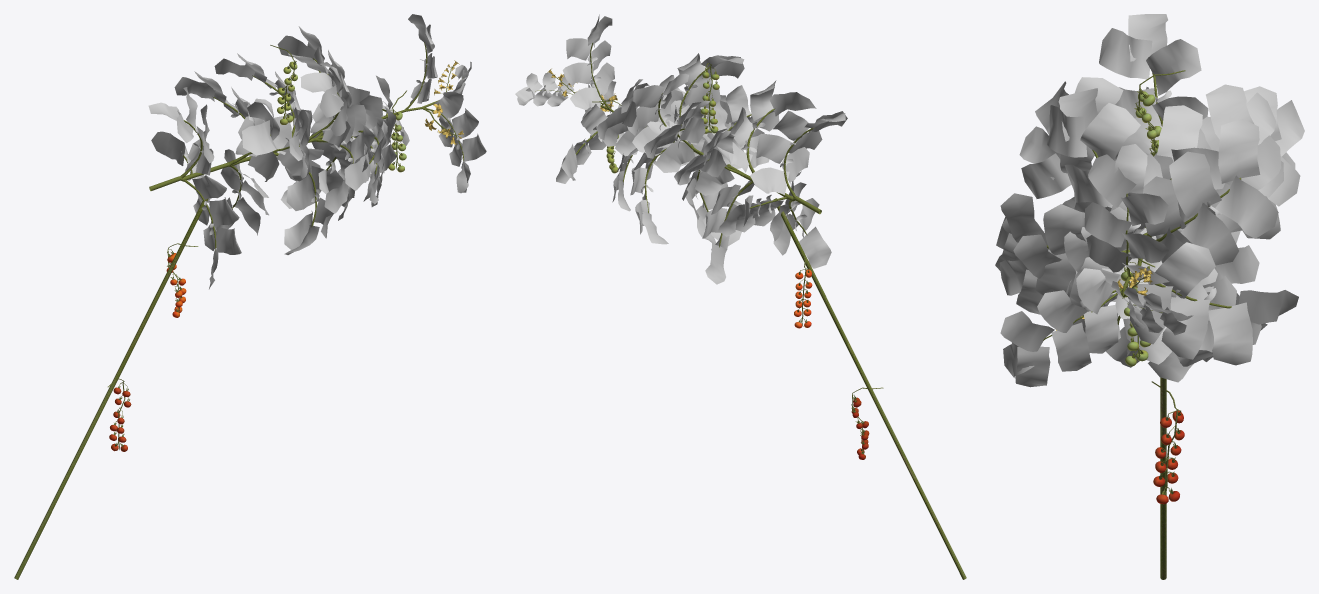
File: tomato_vine_repo_v6.dae
3 views of the same model, side by side, from view 1: azimuth 30°, elevation 25°; view 2: azimuth 150°, elevation 25°; view 3: azimuth 270°, elevation 25° (orthographic). The views are drawn at different scales.
Parts seen in each view (by area): view 1: Leaf1, Branch1, Sphere.025; view 2: Leaf1, Branch1, Sphere.025; view 3: Leaf1, Branch1, Sphere.001, Sphere.025.
Part boxes in pixels (x1,y1,x2,y2): Leaf1: (148,14,486,289); Branch1: (14,42,463,579); Sphere.025: (277,61,406,172); Leaf1: (515,14,847,284); Branch1: (535,43,966,579); Sphere.025: (606,72,719,173); Leaf1: (995,14,1304,387); Branch1: (1043,70,1241,579); Sphere.001: (1153,410,1184,504); Sphere.025: (1120,91,1161,366).
Bounding box in the file's own units: 1.87 × 0.731 × 1.87.
